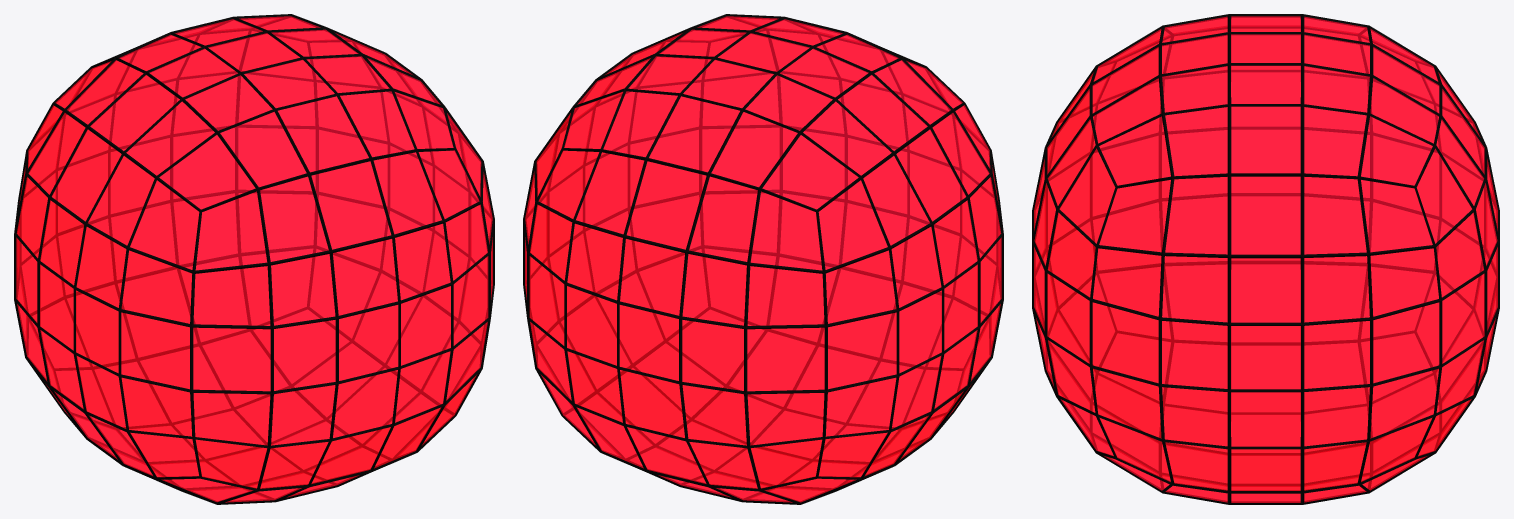
Rendered from forcefield.fbx.
3 renders of one model, left to right at view 1: azimuth 30°, elevation 25°; view 2: azimuth 150°, elevation 25°; view 3: azimuth 270°, elevation 25°, orthographic.
Parts seen in each view (by area): view 1: forcfield; view 2: forcfield; view 3: forcfield.
Boxes of the visible parts, x1,y1,x2,y2 form: forcfield: [14, 14, 494, 504]; forcfield: [523, 14, 1003, 504]; forcfield: [1032, 14, 1499, 504].
Bounding box in the file's own units: 479 × 479 × 479.
